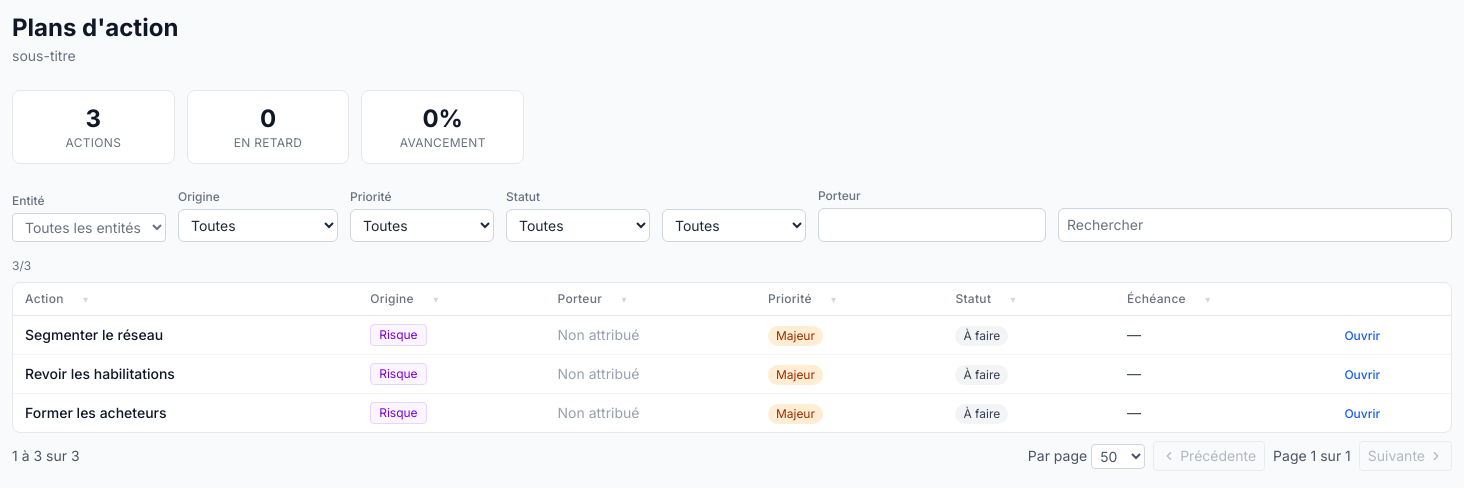
Scenario: PlansActionsView — filtre par entité (consolidation, lot E5) › ne garde que les actions de l’entité choisie (lien ou texte identique), sous-entités comprises — côté serveur
The image size is (1464, 488).
Select "DSI" in the dropdown named "Entité". click: (89, 228)
box: [12, 213, 166, 242]
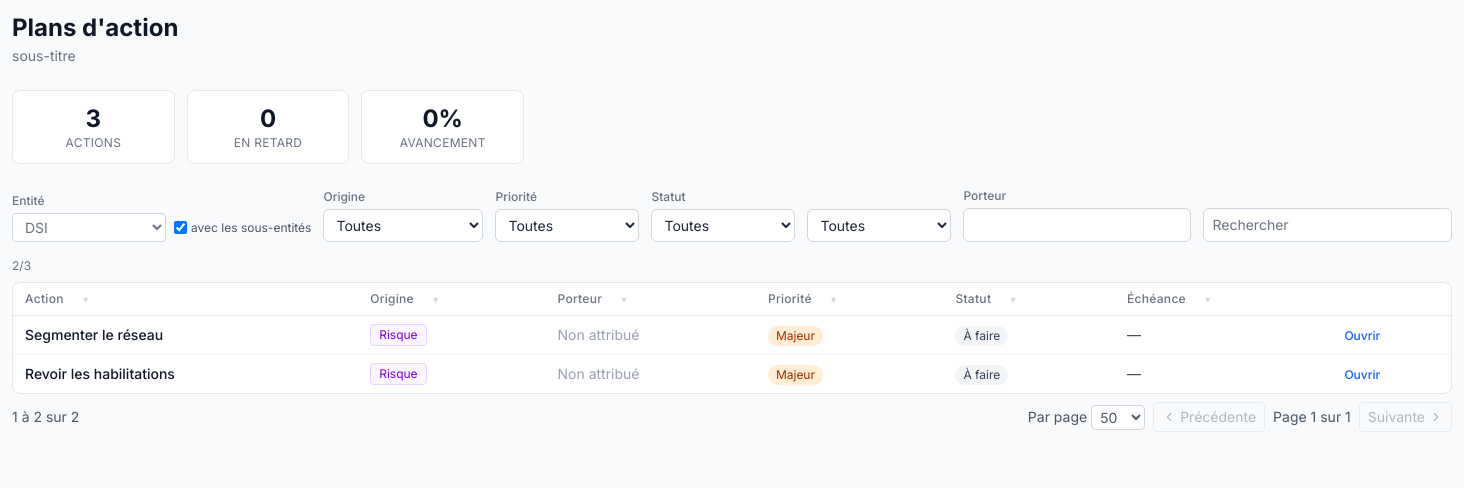
Expected: the text "Segmenter le réseau" is shown, [25, 326, 163, 343]
Expected: the text "Former les acheteurs" is not shown
